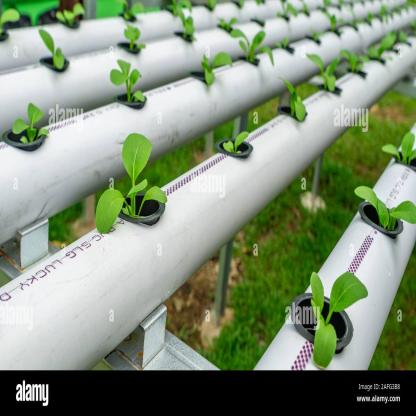PVC: (2, 35, 416, 371), (2, 2, 414, 243), (250, 124, 416, 369)
